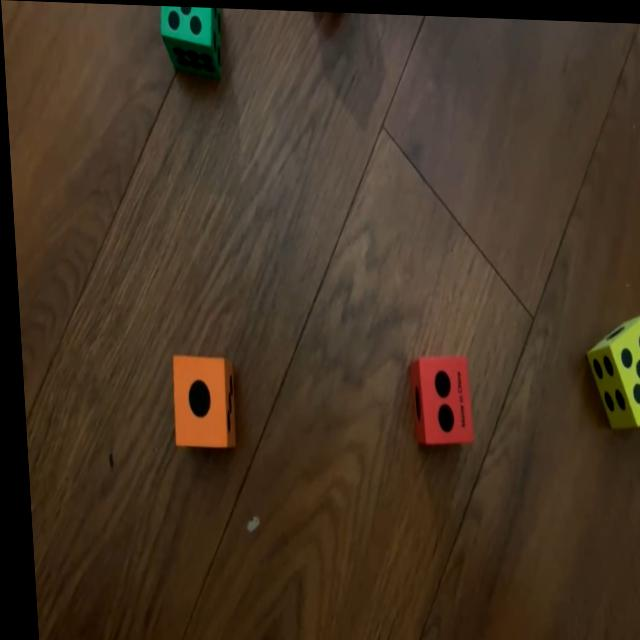cube: (405, 351, 469, 444), (159, 5, 223, 73)
